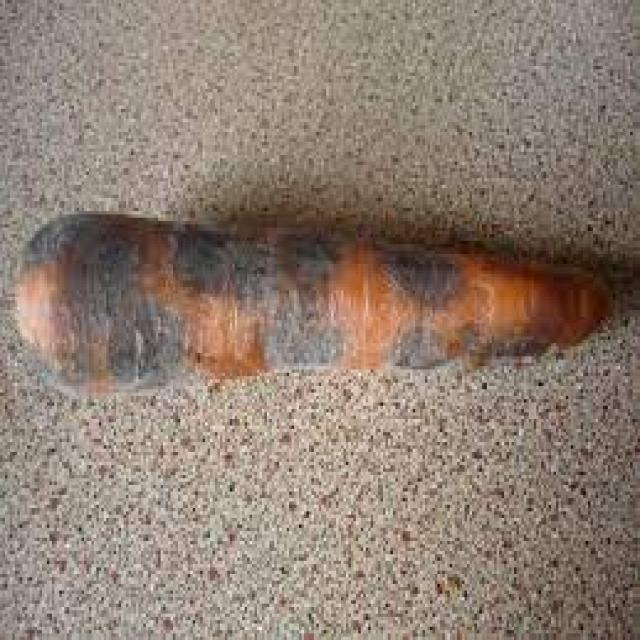Stale_Carrot: (19, 212, 613, 388)
